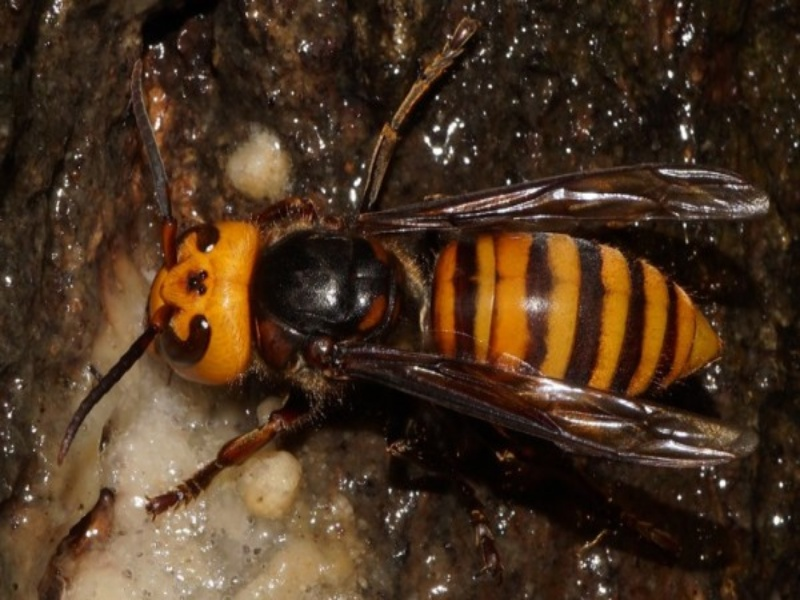asian_giant_hornet: (85, 26, 773, 519)
